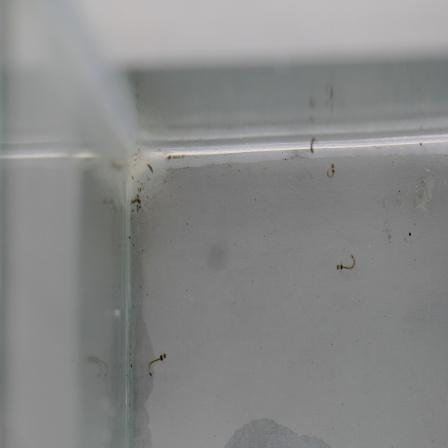Jentik-Nyamuk: (144, 349, 171, 383), (330, 248, 361, 277), (321, 159, 343, 184)
